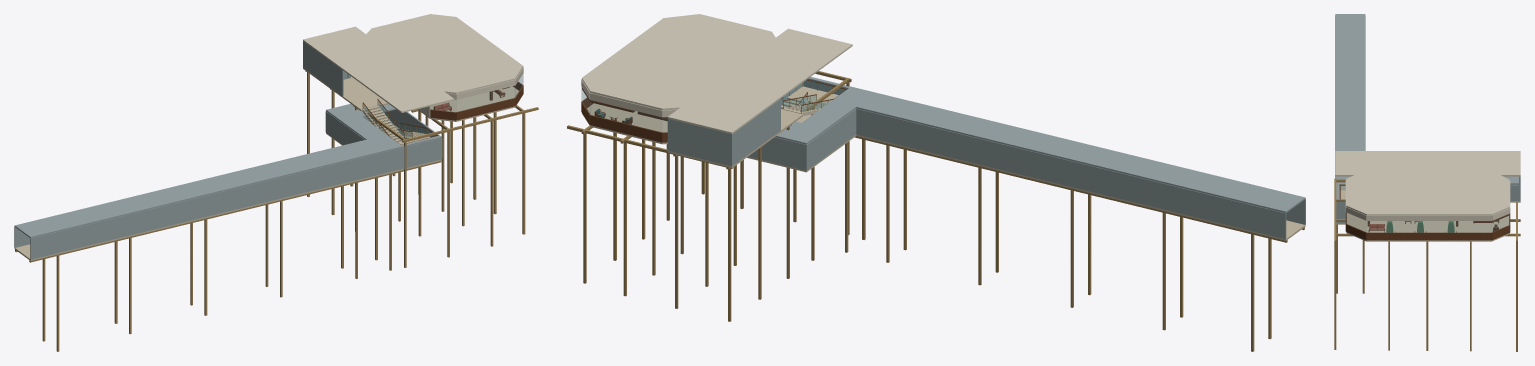
Rendered from D04_STARBOARD_AFT_CO_r003.glb.
The picture shows the model from 3 angles, left to right: view 1: azimuth 30°, elevation 25°; view 2: azimuth 150°, elevation 25°; view 3: azimuth 270°, elevation 25°; orthographic projection. The views are drawn at different scales.
Parts seen in each view (by area): view 1: SAC_CommonsRoof, SAC_LowerSharedRoof, SAC_LowerScreen_5, SAC_CommonsFloor, SAC_LowerScreen_6, SAC_ServiceWest, SAC_StaffStair450, SAC_LowerSharedFloor, SAC_LowerTransfer_383.15, SAC_PerimeterGlass_5, SAC_LowerScreen_2, SAC_LowerScreen_0 (+4 smaller); view 2: SAC_CommonsRoof, SAC_LowerScreen_3, SAC_LowerSharedRoof, SAC_ServiceNorth, SAC_CommonsFloor, SAC_ServiceWest, SAC_LowerSharedFloor, SAC_LowerScreen_2, SAC_LowerScreen_1, SAC_LowerTransfer_379.25, SAC_PerimeterGlass_1, SAC_PerimeterDado_1 (+6 smaller); view 3: SAC_CommonsRoof, SAC_LowerSharedRoof, SAC_CommonsFloor, SAC_PerimeterGlass_3, SAC_PerimeterDado_3, SAC_PerimeterHead_3, SAC_UpperBearing_82.45_369.9, SAC_UpperBearing_82.45_383.4, SAC_PerimeterGlass_4, SAC_UpperBearing_82.45_356.7, SAC_UpperBearing_82.45_363.5, SAC_UpperBearing_82.45_375.5 (+7 smaller).
Part boxes in pixels (left/top/right/bottom): SAC_CommonsRoof: left=303, top=14, right=523, bottom=112; SAC_LowerSharedRoof: left=14, top=104, right=441, bottom=238; SAC_LowerScreen_5: left=30, top=152, right=382, bottom=259; SAC_CommonsFloor: left=303, top=67, right=523, bottom=121; SAC_LowerScreen_6: left=383, top=138, right=441, bottom=173; SAC_ServiceWest: left=303, top=41, right=343, bottom=96; SAC_StaffStair450: left=362, top=99, right=427, bottom=142; SAC_LowerSharedFloor: left=14, top=121, right=441, bottom=260; SAC_LowerTransfer_383.15: left=29, top=161, right=441, bottom=262; SAC_PerimeterGlass_5: left=456, top=86, right=514, bottom=111; SAC_LowerScreen_2: left=325, top=111, right=364, bottom=144; SAC_LowerScreen_0: left=385, top=109, right=442, bottom=158; SAC_CommonsRoof: left=582, top=14, right=852, bottom=134; SAC_LowerScreen_3: left=856, top=108, right=1286, bottom=239; SAC_LowerSharedRoof: left=775, top=77, right=1305, bottom=213; SAC_ServiceNorth: left=667, top=119, right=732, bottom=165; SAC_CommonsFloor: left=582, top=103, right=802, bottom=167; SAC_ServiceWest: left=731, top=99, right=780, bottom=166; SAC_LowerSharedFloor: left=747, top=114, right=1305, bottom=240; SAC_LowerScreen_2: left=806, top=109, right=856, bottom=170; SAC_LowerScreen_1: left=748, top=137, right=806, bottom=170; SAC_LowerTransfer_379.25: left=854, top=136, right=1287, bottom=242; SAC_PerimeterGlass_1: left=590, top=100, right=661, bottom=132; SAC_PerimeterDado_1: left=590, top=115, right=662, bottom=142; SAC_CommonsRoof: left=1335, top=151, right=1520, bottom=215; SAC_LowerSharedRoof: left=1335, top=14, right=1365, bottom=203; SAC_CommonsFloor: left=1346, top=201, right=1520, bottom=241; SAC_PerimeterGlass_3: left=1367, top=221, right=1491, bottom=232; SAC_PerimeterDado_3: left=1366, top=232, right=1491, bottom=240; SAC_PerimeterHead_3: left=1366, top=215, right=1491, bottom=220; SAC_UpperBearing_82.45_369.9: left=1426, top=242, right=1428, bottom=350; SAC_UpperBearing_82.45_383.4: left=1334, top=233, right=1336, bottom=349; SAC_PerimeterGlass_4: left=1346, top=213, right=1366, bottom=231; SAC_UpperBearing_82.45_356.7: left=1516, top=233, right=1517, bottom=351; SAC_UpperBearing_82.45_363.5: left=1470, top=242, right=1471, bottom=351; SAC_UpperBearing_82.45_375.5: left=1388, top=242, right=1389, bottom=350.
Bounding box in the file's own units: 81.08 × 24.03 × 27.34.
Materials: 87 (82 with a texture image).
